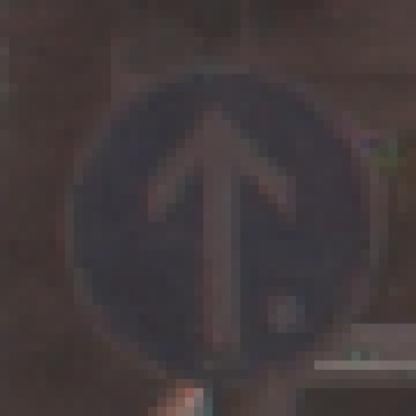AheadOnly: (56, 47, 371, 371)
